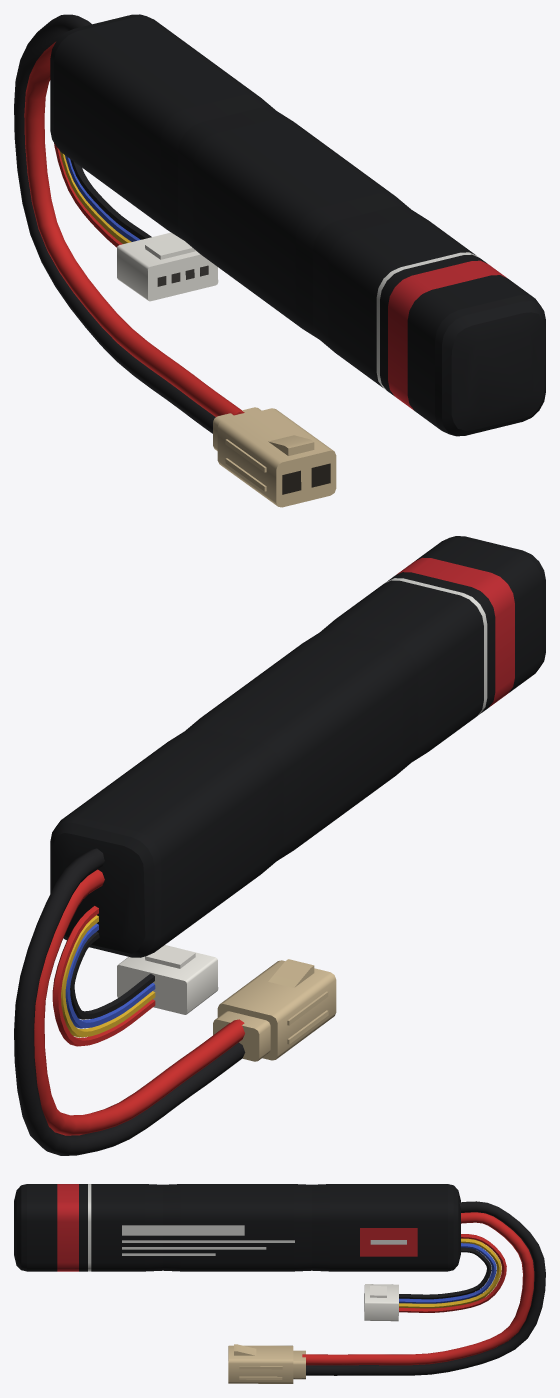
The model's file is lipoBattery.glb.
The picture shows the model from 3 angles, top to bottom: view 1: azimuth 30°, elevation 25°; view 2: azimuth 150°, elevation 25°; view 3: azimuth 270°, elevation 25°; orthographic projection. The views are drawn at different scales.
Visible parts, largest first — view 1: Lipo; view 2: Lipo; view 3: Lipo.
Part boxes in pixels (x1,y1,x2,y2): Lipo: (14, 14, 545, 507); Lipo: (14, 536, 545, 1155); Lipo: (14, 1184, 545, 1383).
Size of the model in its own units: 0.0191 by 0.0563 by 0.1476.
